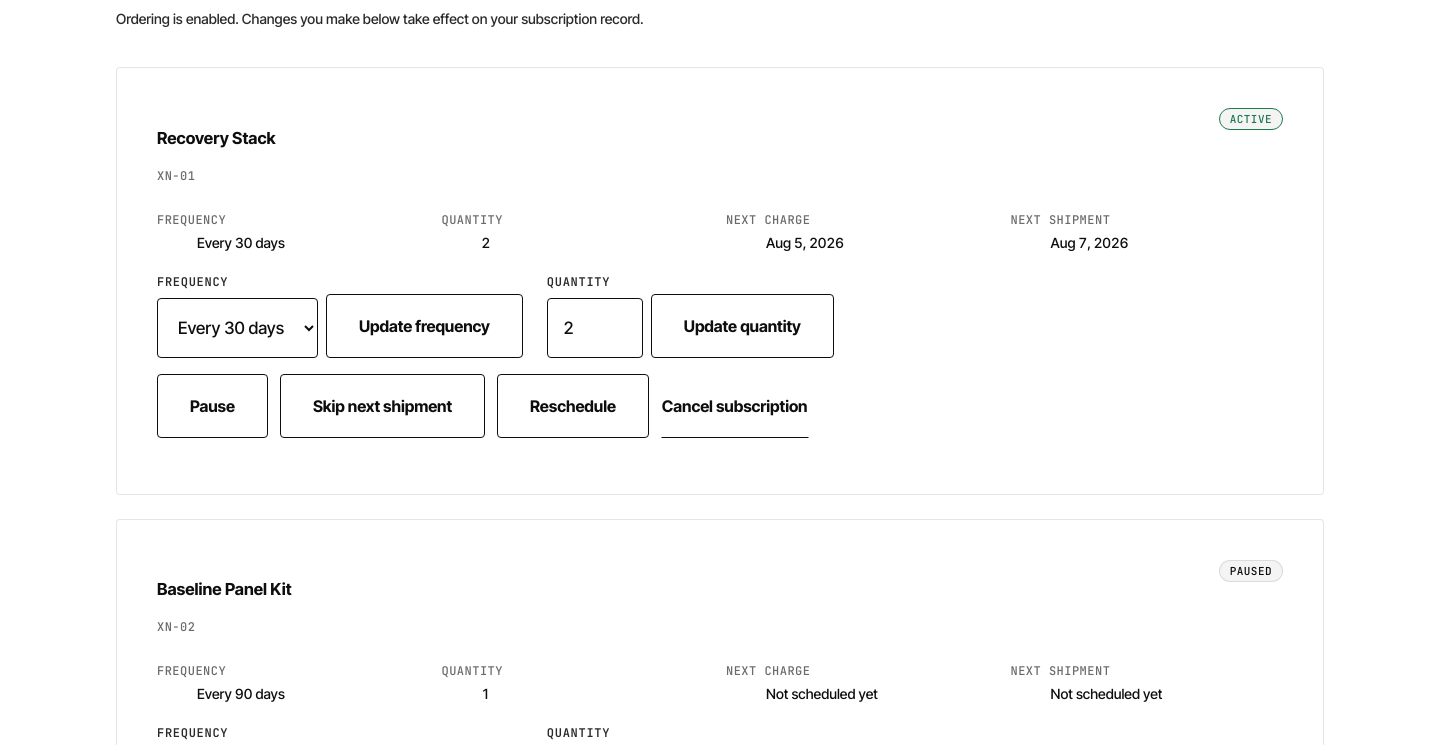
Test: Subscriptions page › posts the exact SubscriptionActionRequest body for a pause
The width and height of the screenshot is (1440, 745).
(page scrolled)
Click the button "Pause" at (212, 406), box 157,374 -> 268,438
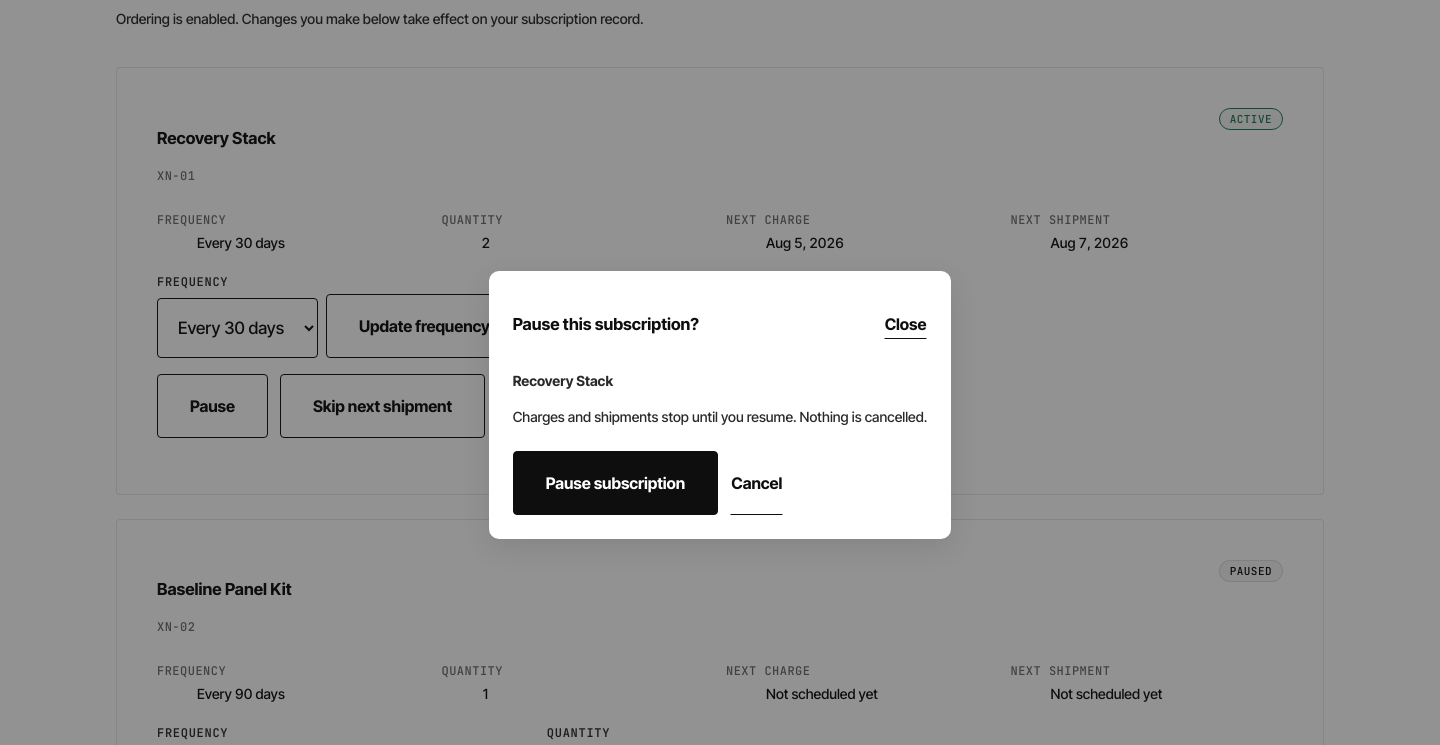
Click the button "Pause subscription" at (616, 484), box 513,452 -> 718,516
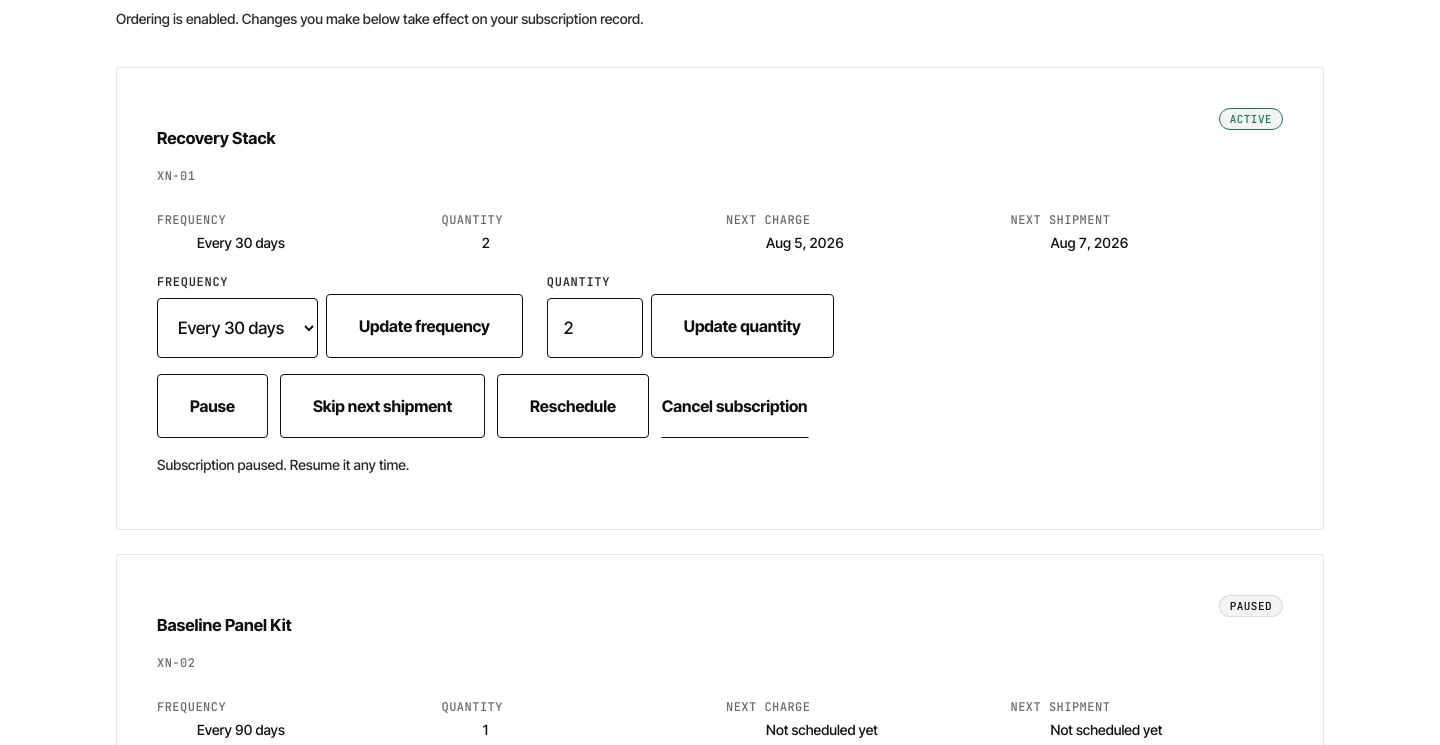
Expected: the text "Subscription paused. Resume it any time." is shown, 157,456 -> 410,473
